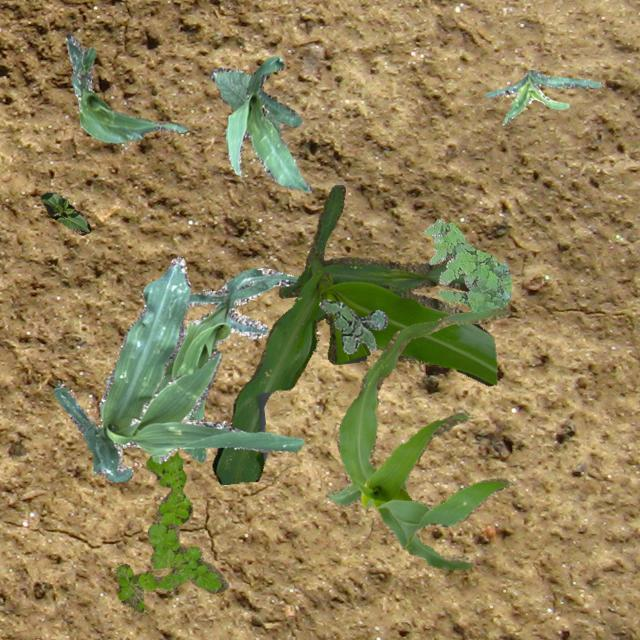crop: (213, 184, 497, 483), (52, 256, 302, 482), (324, 306, 516, 568), (156, 266, 298, 462), (64, 32, 188, 142), (225, 55, 312, 192), (484, 70, 600, 122), (208, 66, 284, 134), (39, 190, 90, 233)
weed: (115, 450, 228, 612), (424, 218, 511, 312), (318, 298, 386, 352)
